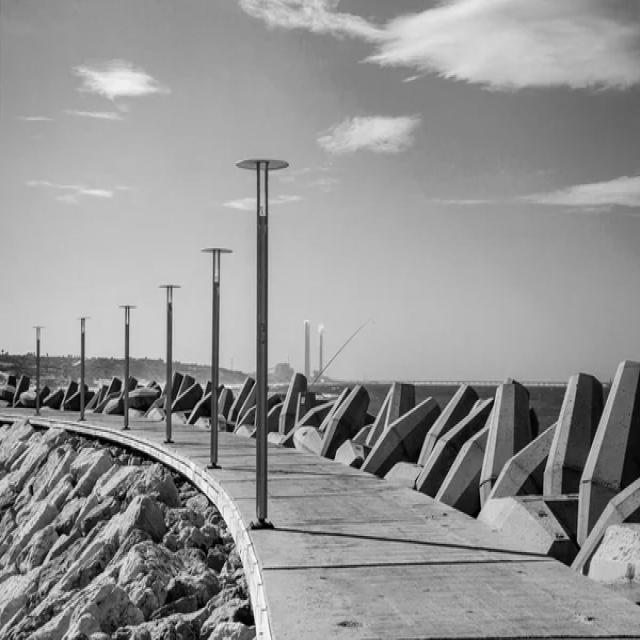Pole: (237, 158, 289, 530), (203, 248, 231, 470), (162, 285, 180, 444), (121, 306, 137, 430), (35, 326, 41, 416), (80, 317, 85, 420)
